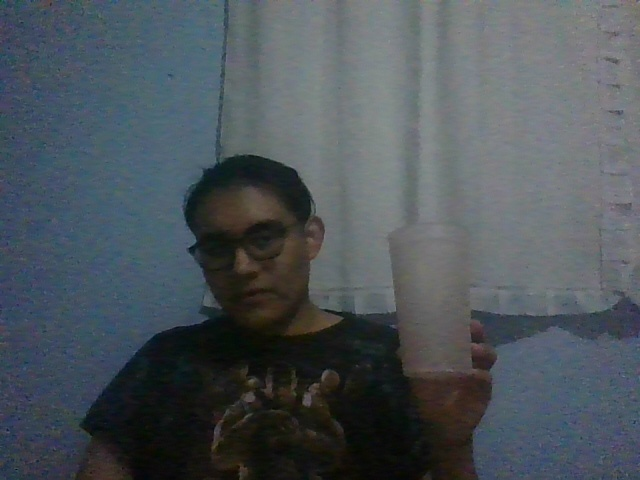vaso: (386, 221, 472, 380)
